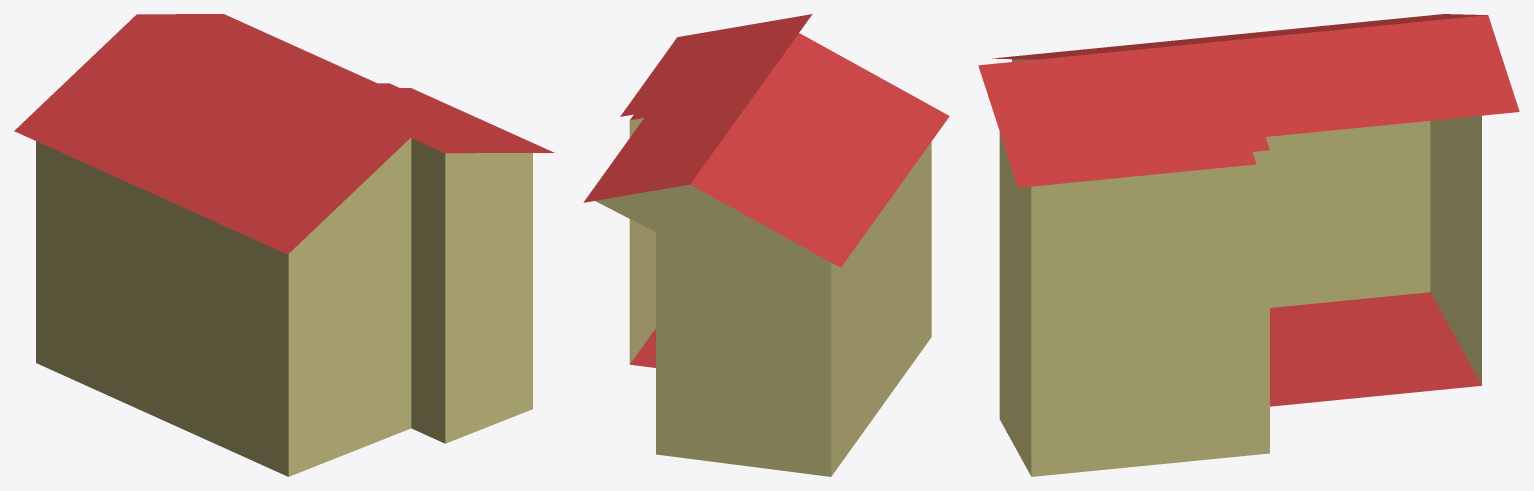
3 renders of one model, left to right at view 1: azimuth 30°, elevation 25°; view 2: azimuth 150°, elevation 25°; view 3: azimuth 270°, elevation 25°, orthographic. The views are drawn at different scales.
Bounding box in the file's own units: 13.38 × 15.08 × 10.71.
